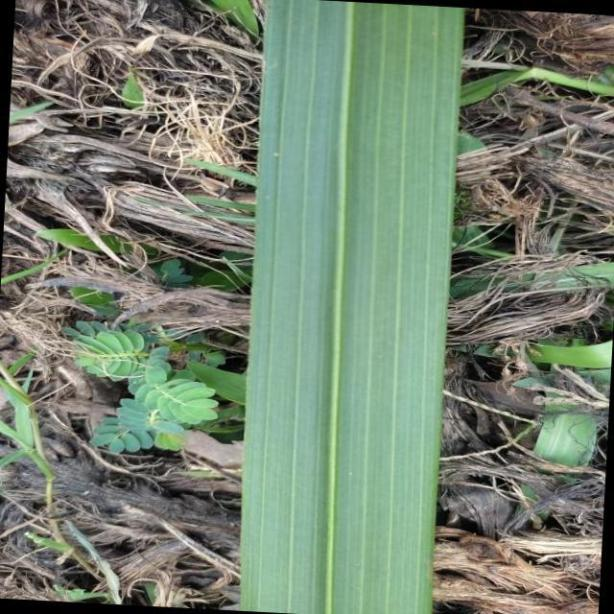Healthy: (238, 0, 462, 614)
